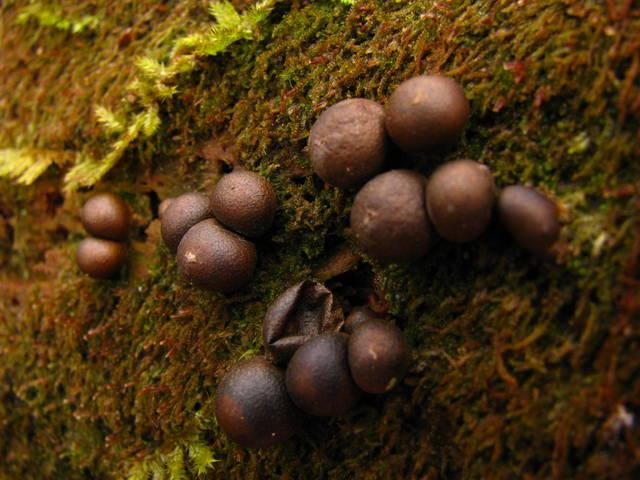poisonous_mushroom: (75, 70, 562, 449), (306, 72, 560, 262), (214, 277, 410, 448), (158, 166, 278, 292), (349, 168, 430, 260), (214, 356, 293, 448), (306, 96, 386, 186), (261, 277, 344, 362), (384, 73, 469, 154), (174, 217, 257, 291), (284, 331, 356, 416), (424, 158, 495, 242), (75, 191, 132, 278), (346, 316, 410, 393), (209, 167, 277, 236), (497, 183, 560, 252), (158, 190, 210, 252), (79, 192, 131, 238), (75, 236, 126, 277)
